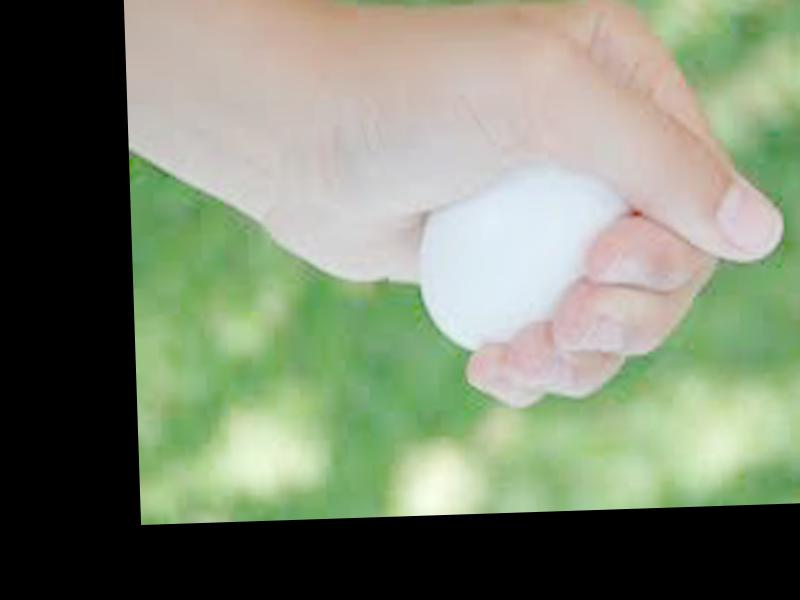Eggs: (415, 173, 636, 351)
